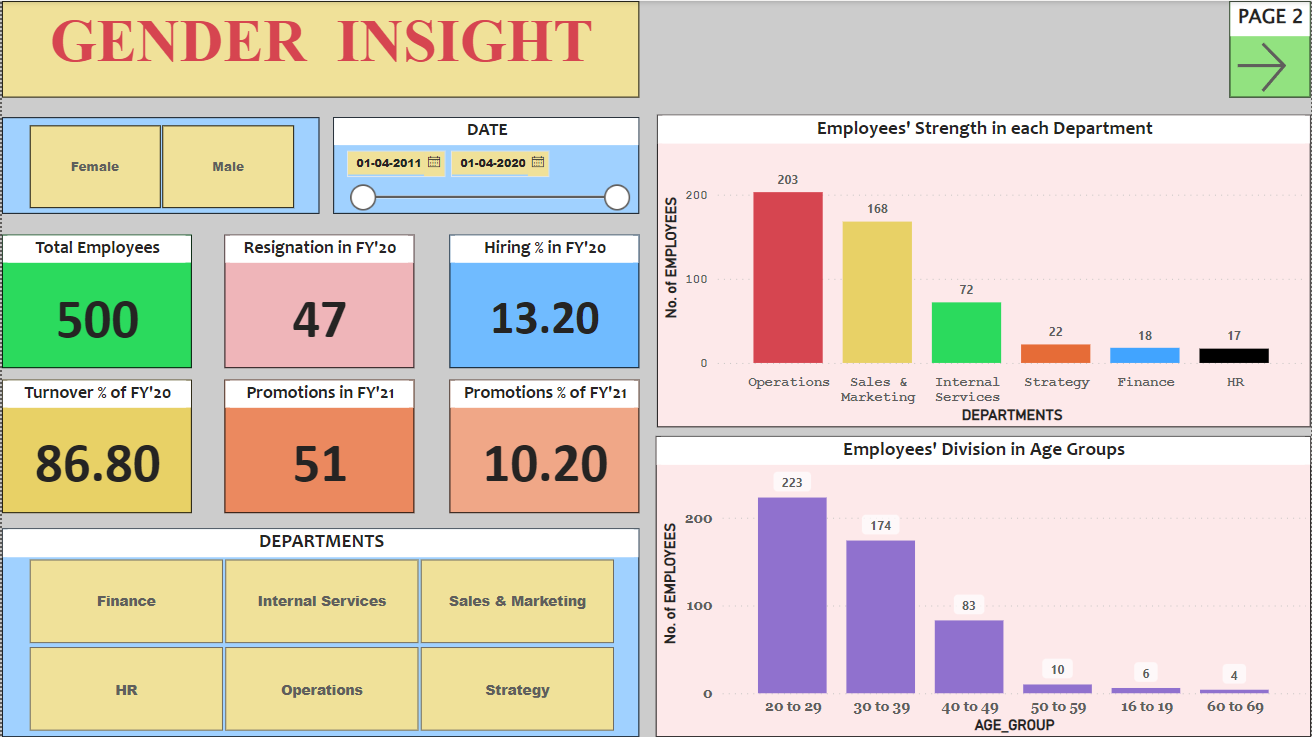

Layout of this report page (visuals, bound fields, positions):
{"tool":"powerbi","page":{"name":"Page 1","canvas":[1280,720],"ordinal":0},"visuals":[{"type":"card","title":"Total Employees","fields":{"Values":["CountNonNull(Pharma Group AG.Gender)"]},"box":[0,229.2,185.2,130.4],"z":0},{"type":"card","title":"Resignation in FY''20","fields":{"Values":["Pharma Group AG.Total_Leave_2020"]},"box":[218.2,229.2,185.2,130.4],"z":1000},{"type":"card","title":"Promotions in FY''21","fields":{"Values":["Pharma Group AG.Total_Prom_FY21"]},"box":[217.6,370.4,185.8,130.8],"z":2000},{"type":"card","title":"Promotions % of FY''21","fields":{"Values":["Pharma Group AG.% Prom_FY21"]},"box":[437.6,370.4,185.8,130.8],"z":3000},{"type":"slicer","fields":{"Values":["Pharma Group AG.Gender"]},"box":[0,113.9,310.1,94.7],"z":4000},{"type":"card","title":"Hiring % in FY''20","fields":{"Values":["Pharma Group AG.% Hire_FY20"]},"box":[437.7,229.2,185.2,130.4],"z":5000},{"type":"card","title":"Turnover % of FY''20","fields":{"Values":["Pharma Group AG.% TurnOver_FY20"]},"box":[0,370.4,185.8,130.8],"z":6000},{"type":"textbox","box":[0,0,623.4,94.1],"z":7000},{"type":"columnChart","title":"Employees'' Strength in each Department","fields":{"Category":["Pharma Group AG.Department @01.07.2020"],"Y":["CountNonNull(Pharma Group AG.Employee ID)"]},"box":[640.5,111.2,639.3,305.6],"z":8000},{"type":"slicer","title":"DEPARTMENTS","fields":{"Values":["Pharma Group AG.Department @01.07.2020"]},"box":[0,515.9,623.4,204.1],"z":9000},{"type":"lineStackedColumnComboChart","title":"Employees'' Division in Age Groups","fields":{"Category":["Pharma Group AG.Age group"],"Y":["Count(Pharma Group AG.Employee ID)"]},"box":[639.3,425.4,640.5,294.6],"z":10000},{"type":"slicer","title":"DATE ","fields":{"Values":["Pharma Group AG.Last hire date"]},"box":[323.9,113.7,299.5,94.1],"z":11000},{"type":"actionButton","title":"PAGE 2","box":[1200.4,0,79.5,94.1],"z":12000}]}

Visuals, with their boxes in screenshot pixels (x1, y1, x2, y2), scaled from the page's 1280x720 canvas onto the 1312x737 screenshot:
"Total Employees" card: l=0, t=235, r=190, b=368
"Resignation in FY''20" card: l=224, t=235, r=413, b=368
"Promotions in FY''21" card: l=223, t=379, r=413, b=513
"Promotions % of FY''21" card: l=449, t=379, r=639, b=513
slicer - Pharma Group AG.Gender: l=0, t=117, r=318, b=214
"Hiring % in FY''20" card: l=449, t=235, r=638, b=368
"Turnover % of FY''20" card: l=0, t=379, r=190, b=513
textbox: l=0, t=0, r=639, b=96
"Employees'' Strength in each Department" columnChart: l=657, t=114, r=1311, b=427
"DEPARTMENTS" slicer: l=0, t=528, r=639, b=736
"Employees'' Division in Age Groups" lineStackedColumnComboChart: l=655, t=435, r=1311, b=736
"DATE " slicer: l=332, t=116, r=639, b=213
"PAGE 2" actionButton: l=1230, t=0, r=1311, b=96
